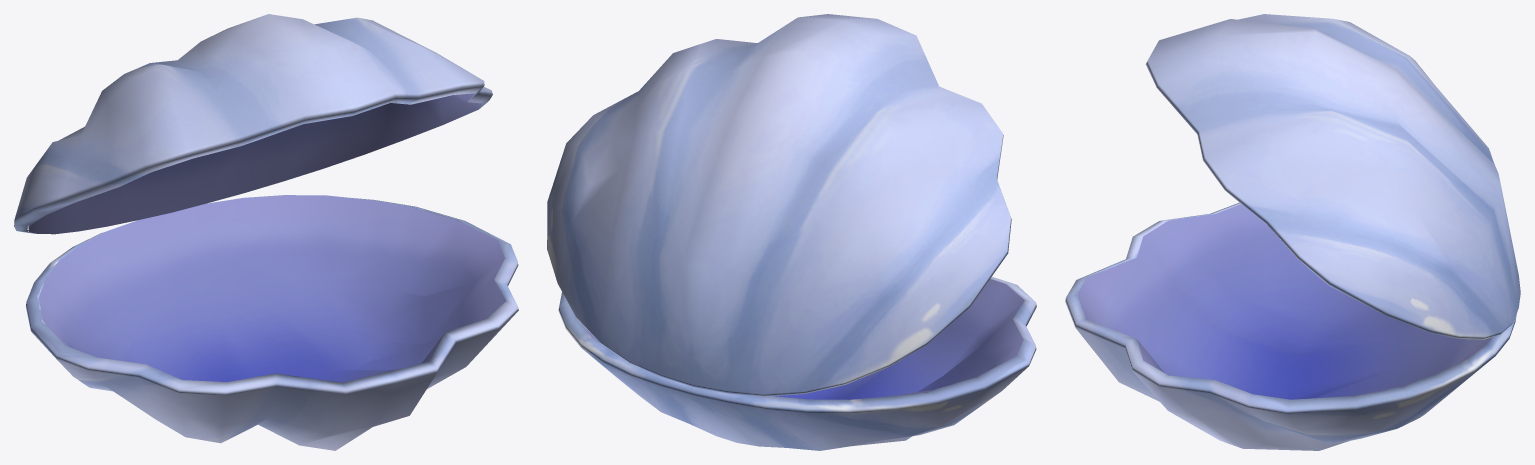
Rendered from beike01.fbx.
The picture shows the model from 3 angles, left to right: view 1: azimuth 30°, elevation 25°; view 2: azimuth 150°, elevation 25°; view 3: azimuth 270°, elevation 25°; orthographic projection. The views are drawn at different scales.
Visible parts, largest first — view 1: beike01; view 2: beike01; view 3: beike01.
Part boxes in pixels (x1,y1,x2,y2): beike01: [14, 14, 518, 450]; beike01: [547, 14, 1036, 450]; beike01: [1065, 14, 1520, 450].
Bounding box in the file's own units: 13.15 × 10.91 × 11.67.
